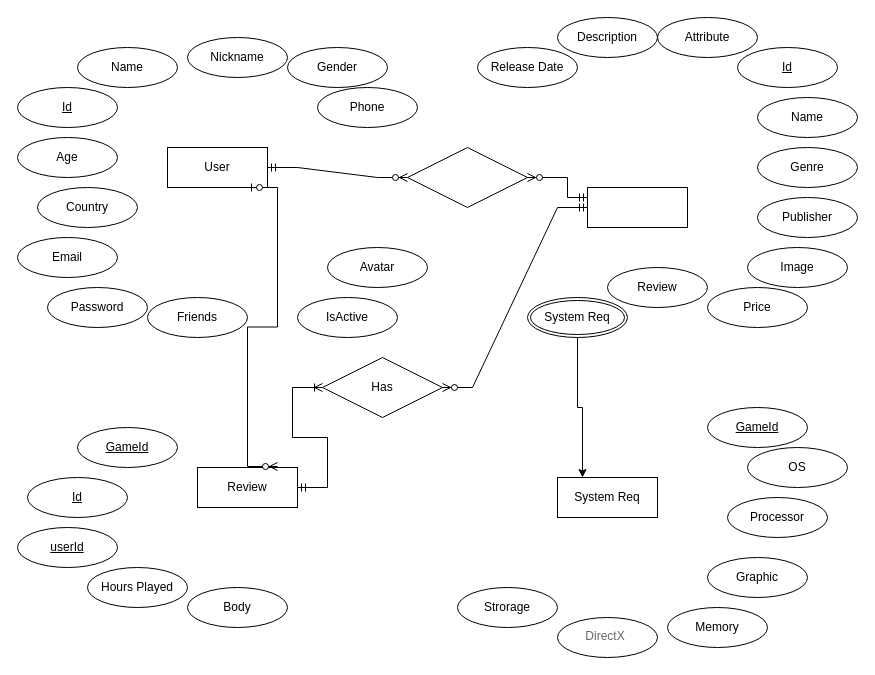
Some shapes in this 875 by 675 pixel diagram are drawn without their labels. The centre of each missing label's shape, as x and y in pixels:
Game: (x=637, y=207)
Plays: (x=467, y=177)
